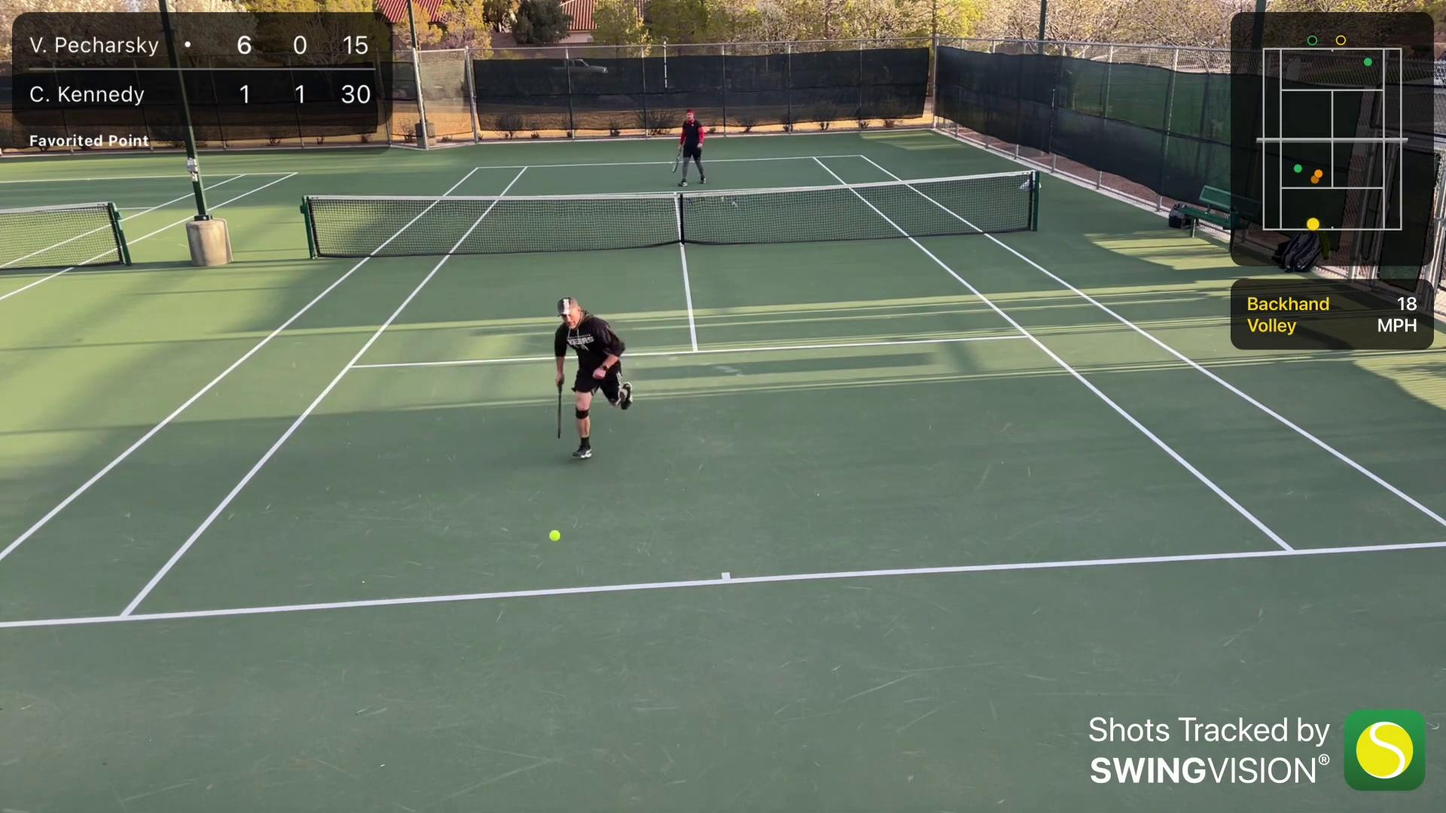ball: (548, 528, 562, 547)
